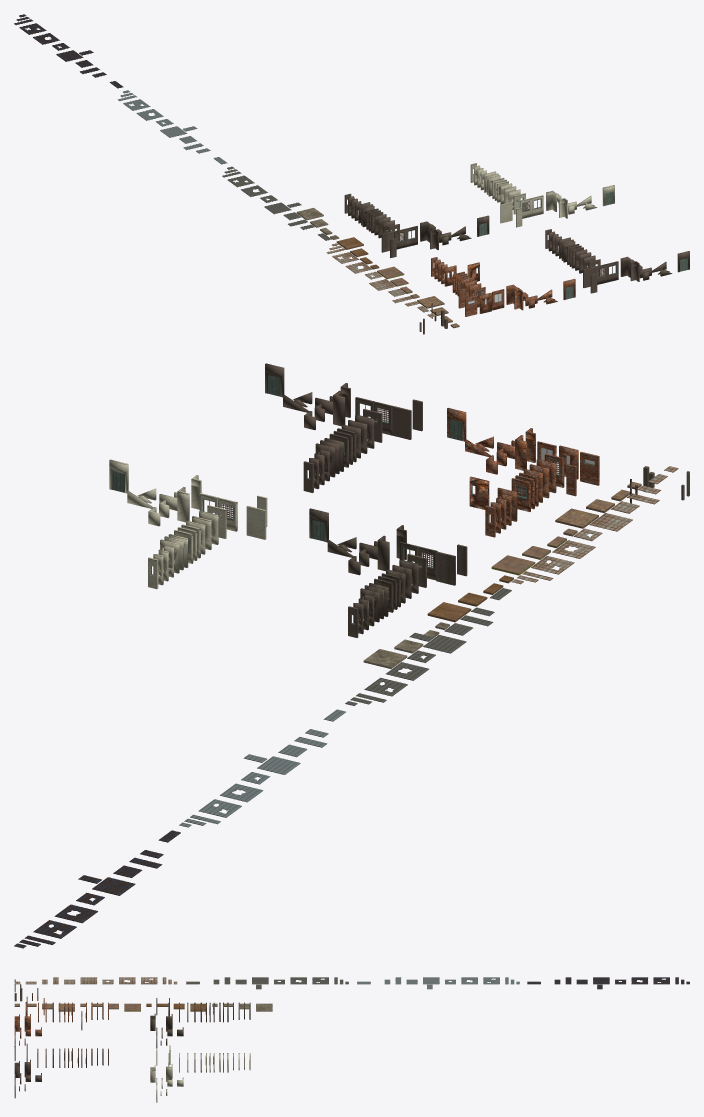
Rendered from budynki_Maks (1).fbx.
3 renders of one model, top to bottom at view 1: azimuth 30°, elevation 25°; view 2: azimuth 150°, elevation 25°; view 3: azimuth 270°, elevation 25°, orthographic. The views are drawn at different scales.
Bounding box in the file's own units: 4869 × 320 × 12318.
